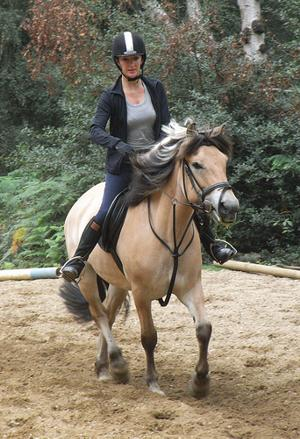person: (58, 31, 239, 287)
